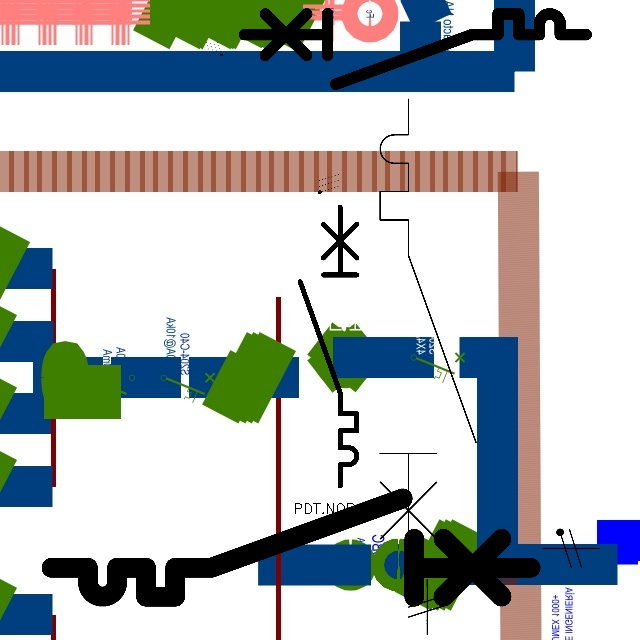interruptor_termomagnetico: (39, 486, 543, 609), (368, 87, 488, 579), (235, 5, 594, 93), (293, 200, 364, 493)
